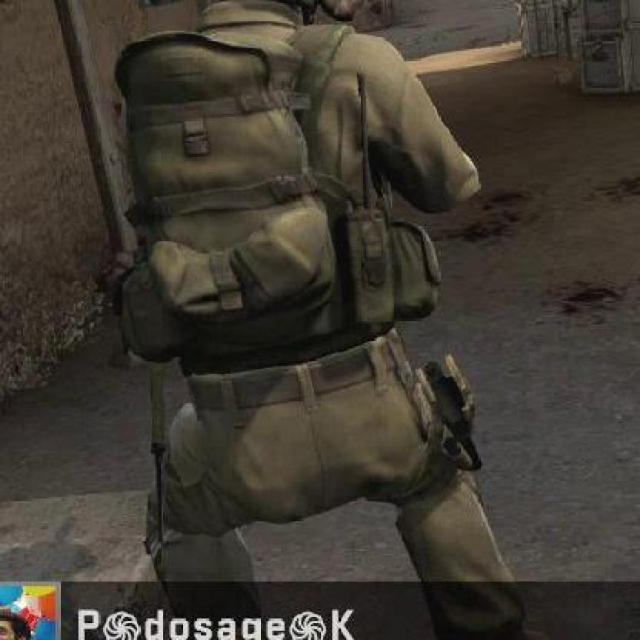CT-Head: (72, 0, 576, 632)
